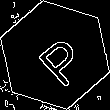P_NW: (23, 23, 87, 87)
